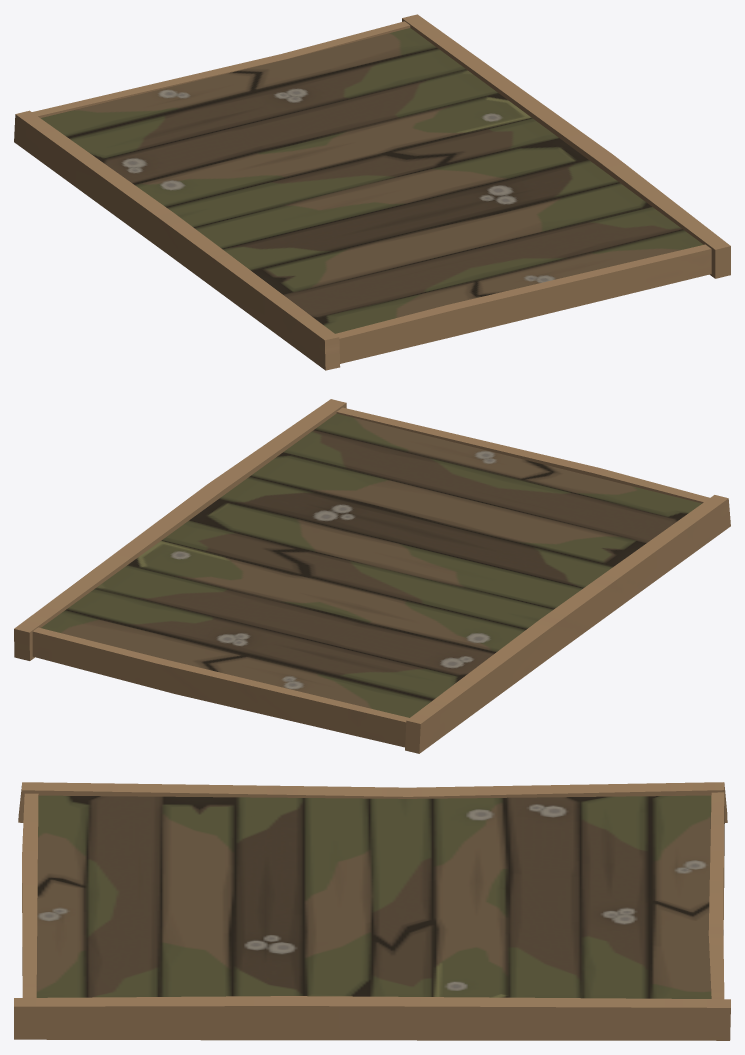
Rendered from SM_Bld_Dock_07.fbx.
3 views of the same model, one above another, from view 1: azimuth 30°, elevation 25°; view 2: azimuth 150°, elevation 25°; view 3: azimuth 270°, elevation 25° (orthographic). The views are drawn at different scales.
Visible parts, largest first — view 1: SM_Bld_Dock_07; view 2: SM_Bld_Dock_07; view 3: SM_Bld_Dock_07.
Boxes of the visible parts, <box> form: SM_Bld_Dock_07: <box>14,14,730,370</box>; SM_Bld_Dock_07: <box>14,399,730,753</box>; SM_Bld_Dock_07: <box>14,782,730,1040</box>.
Size of the model in its own units: 386 by 30.5 by 520.
